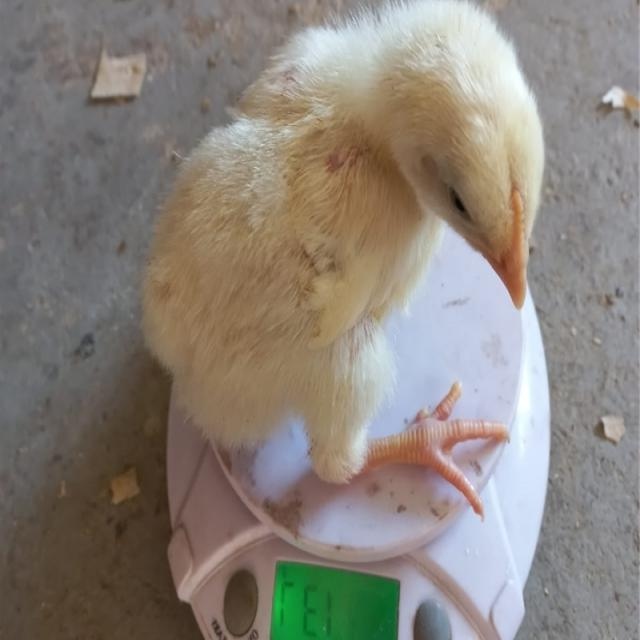poussin: (136, 0, 550, 510)
